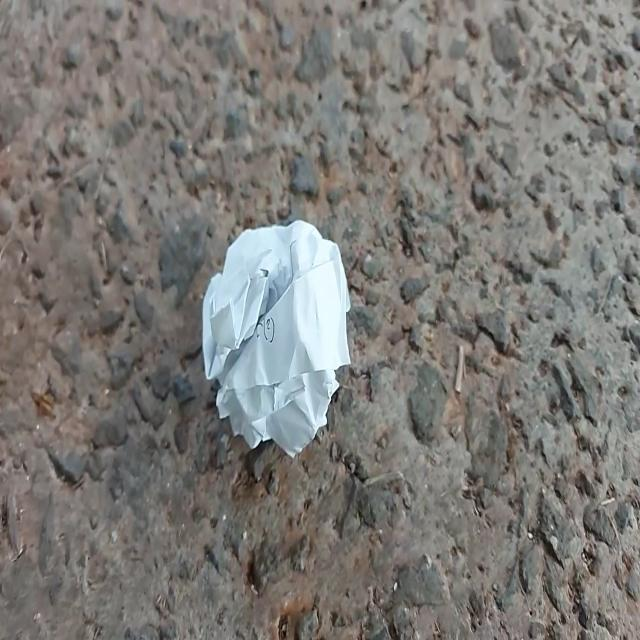paper: (185, 202, 362, 470)
